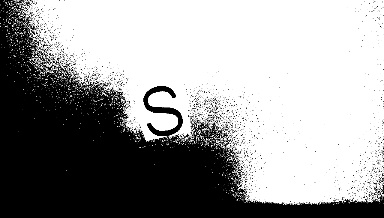S: (136, 83, 188, 138)
